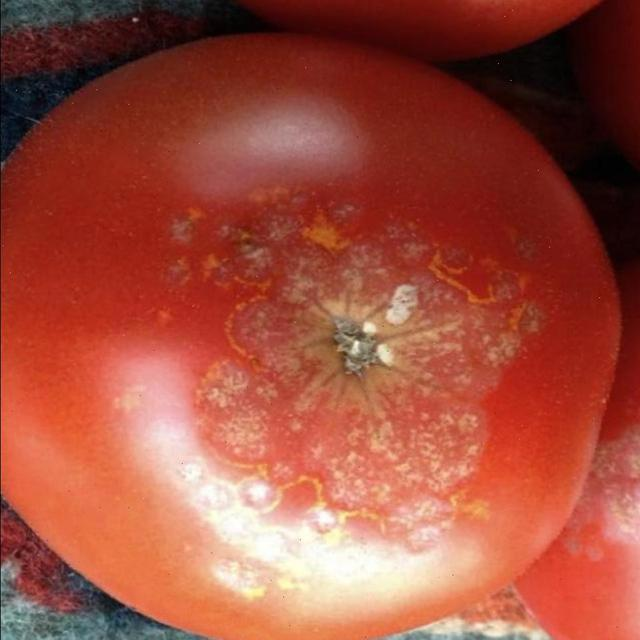Blossom End Rot Fruit: (101, 135, 368, 369)
